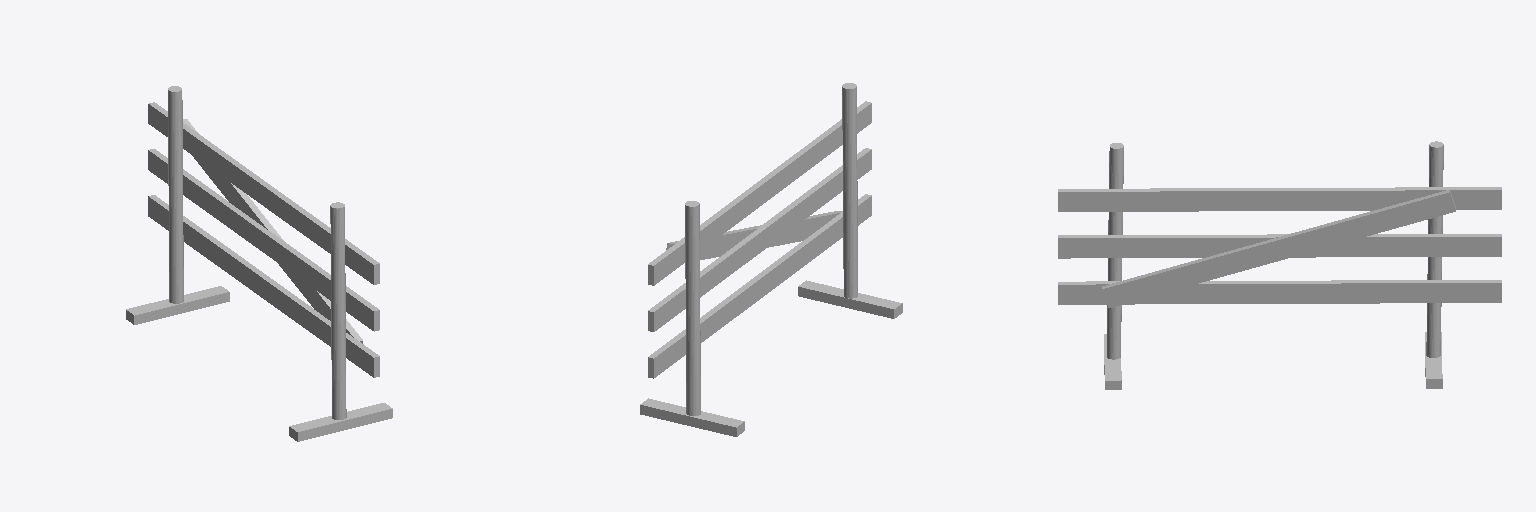
File: Barricade.obj
3 views of the same model, side by side, from view 1: azimuth 30°, elevation 25°; view 2: azimuth 150°, elevation 25°; view 3: azimuth 270°, elevation 25° (orthographic).
Parts seen in each view (by area): view 1: Cube_068; view 2: Cube_068; view 3: Cube_068.
Boxes of the visible parts, box(x1,y1,x2,y2) form: Cube_068: box(126, 86, 392, 441); Cube_068: box(640, 83, 902, 436); Cube_068: box(1058, 141, 1501, 389).
Size of the model in its own units: 12.47 by 26.61 by 48.53.